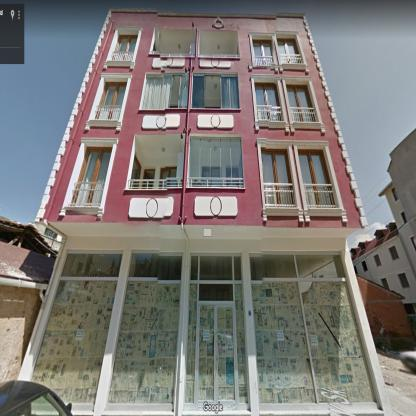door: (197, 301, 238, 410)
window: (250, 281, 376, 403), (31, 280, 117, 403), (186, 257, 248, 404), (108, 281, 180, 405), (188, 136, 243, 188), (71, 147, 111, 205), (299, 150, 334, 206), (262, 150, 295, 206), (142, 74, 188, 108), (192, 74, 238, 108), (129, 252, 181, 281), (61, 254, 122, 276), (295, 253, 345, 278), (251, 255, 297, 280), (96, 82, 126, 119), (287, 85, 316, 121), (256, 82, 282, 119), (112, 36, 138, 61), (278, 38, 300, 63), (253, 40, 273, 66), (132, 156, 140, 178), (161, 168, 176, 177), (144, 170, 154, 178)
